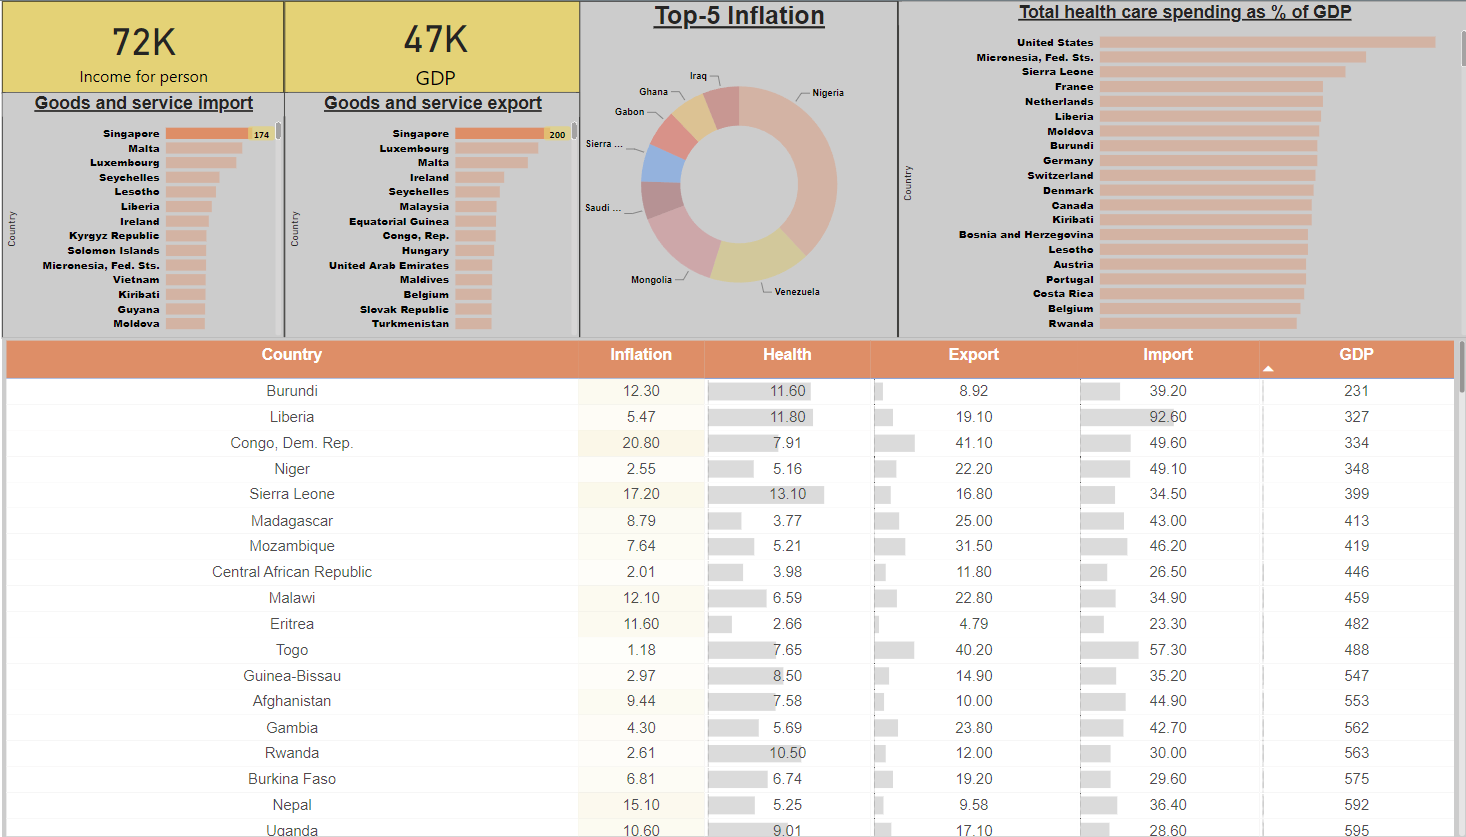

The page's visual inventory and layout, read from the dashboard file:
{"tool":"powerbi","page":{"name":"Страница 1а","canvas":[2100,1200],"ordinal":1},"visuals":[{"type":"card","fields":{"Values":["Sum(Country-data.income)"]},"box":[0,0,403.3,131.6],"z":0},{"type":"card","fields":{"Values":["Sum(Country-data.gdpp)"]},"box":[403.6,0,430.9,130.9],"z":1000},{"type":"donutChart","title":"Top-5 Inflation","fields":{"Category":["Country-data.country"],"Y":["Sum(Country-data.inflation)"]},"box":[826.4,0,455.5,482.7],"z":2000},{"type":"clusteredBarChart","title":"Total health care spending as % of GDP","fields":{"Category":["Country-data.country"],"Y":["Sum(Country-data.health)"]},"box":[1281.8,0,818.2,482.7],"z":3000},{"type":"clusteredBarChart","title":"Goods and service export","fields":{"Category":["Country-data.страны"],"Y":["Sum(Country-data.exports)"]},"box":[403.6,130.9,422.7,351.8],"z":4000},{"type":"clusteredBarChart","title":"Goods and service import","fields":{"Category":["Country-data.страны"],"Y":["Sum(Country-data.imports)"]},"box":[0,130.9,403.6,351.8],"z":5000},{"type":"tableEx","fields":{"Values":["Country-data.страны","Sum(Country-data.inflation)","Sum(Country-data.health)","Sum(Country-data.exports)","Sum(Country-data.imports)","Sum(Country-data.ВВП)"]},"box":[0,481.6,2098,718.4],"z":6000}]}

Visuals, with their boxes in screenshot pixels (x1, y1, x2, y2), scaled from the page's 2100x1200 canvas onto the 1466x837 screenshot:
card - Sum(Country-data.income): bbox=[0, 0, 282, 92]
card - Sum(Country-data.gdpp): bbox=[282, 0, 583, 91]
"Top-5 Inflation" donutChart: bbox=[577, 0, 895, 337]
"Total health care spending as % of GDP" clusteredBarChart: bbox=[895, 0, 1465, 337]
"Goods and service export" clusteredBarChart: bbox=[282, 91, 577, 337]
"Goods and service import" clusteredBarChart: bbox=[0, 91, 282, 337]
tableEx - Country-data.страны x Sum(Country-data.inflation): bbox=[0, 336, 1465, 836]
